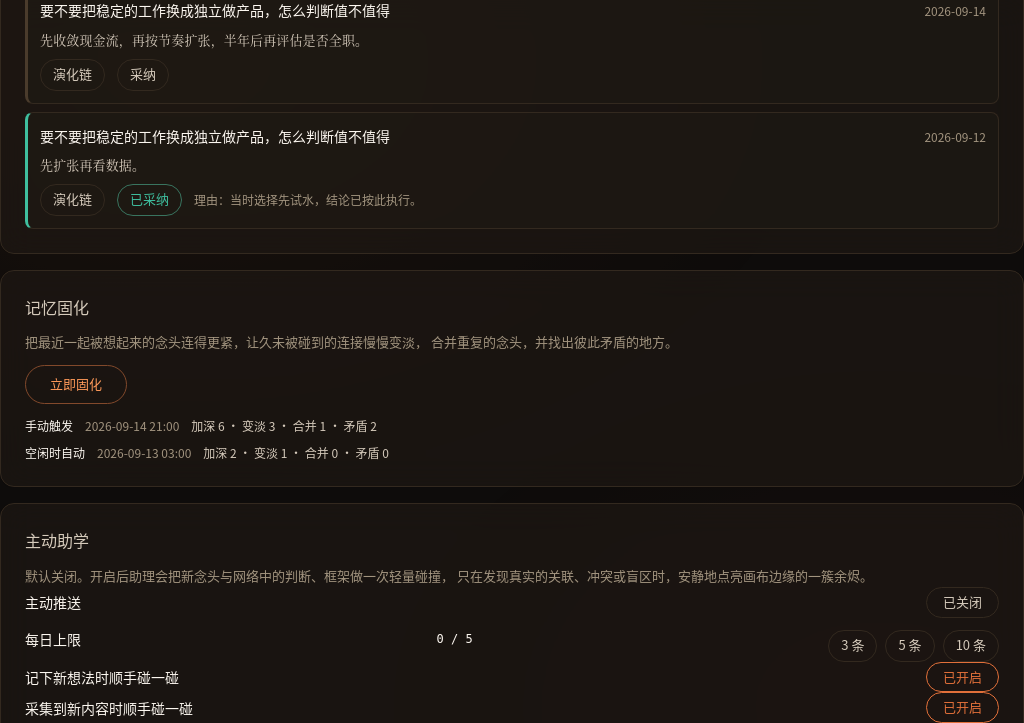
我境界 · 成长轨迹 › 固化面板展示本次结果与历史
The image size is (1024, 723).
(page scrolled)
Check: the heading "记忆固化" is shown, box [25,295,89,319]
Click the button "立即固化". click: (76, 385)
box: [25,365,127,404]
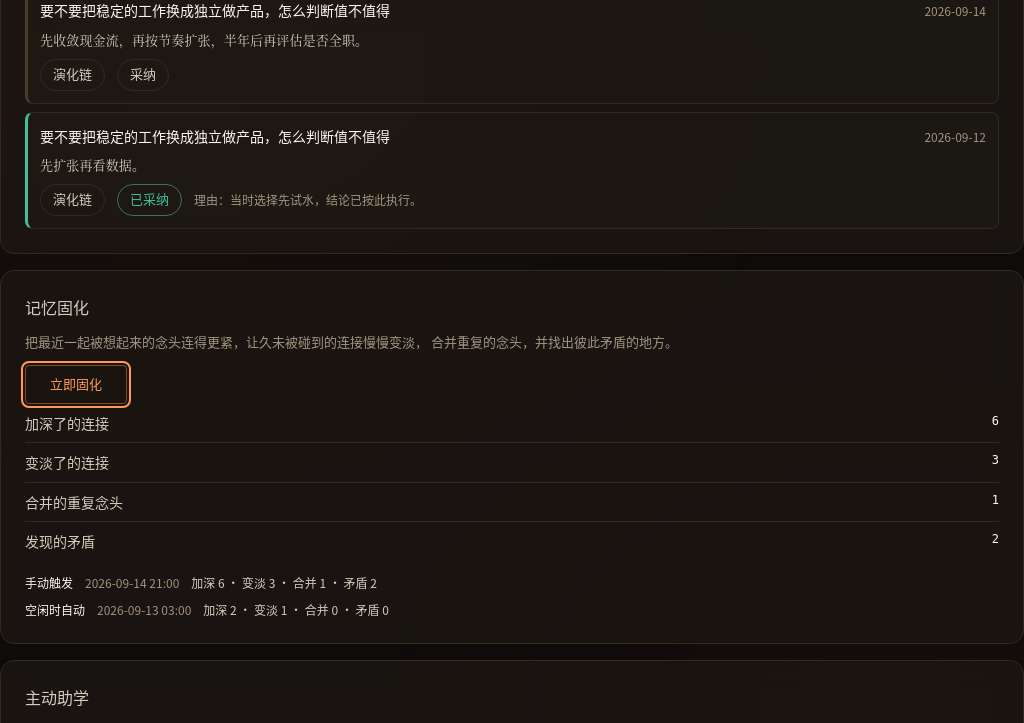
Check: the text "手动触发" is shown, box [25,573,73,592]
Check: the text "加深了的连接" is shown, box [25,412,109,434]
Check: the text "发现的矛盾" is shown, box [25,530,95,553]
